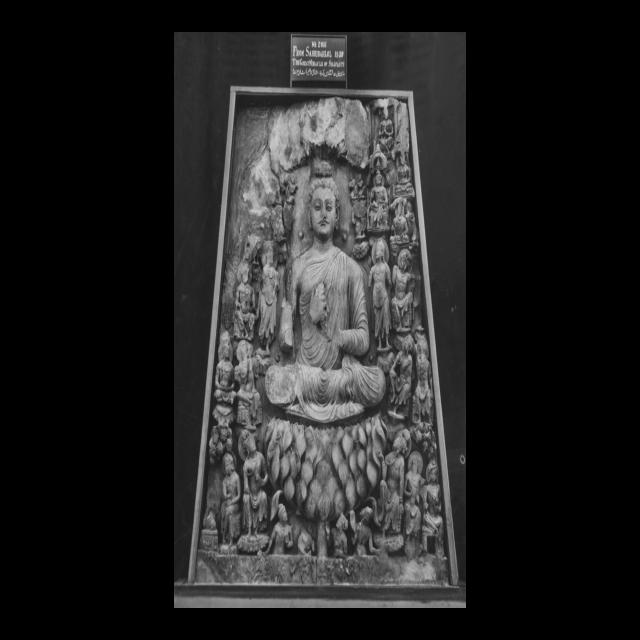buddha-sitting: (265, 162, 386, 558)
